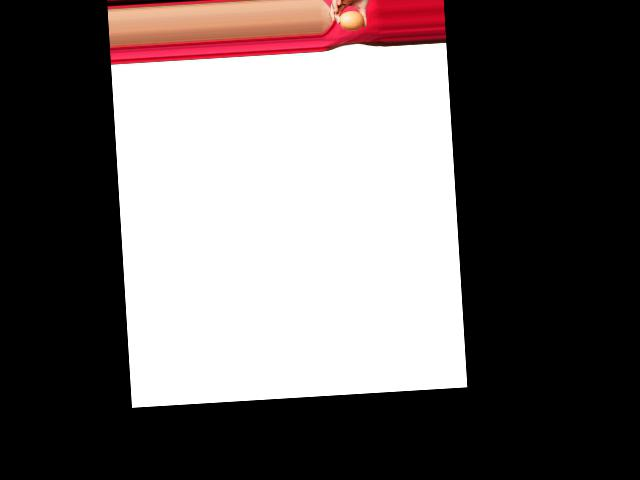egg: (338, 9, 364, 31)
